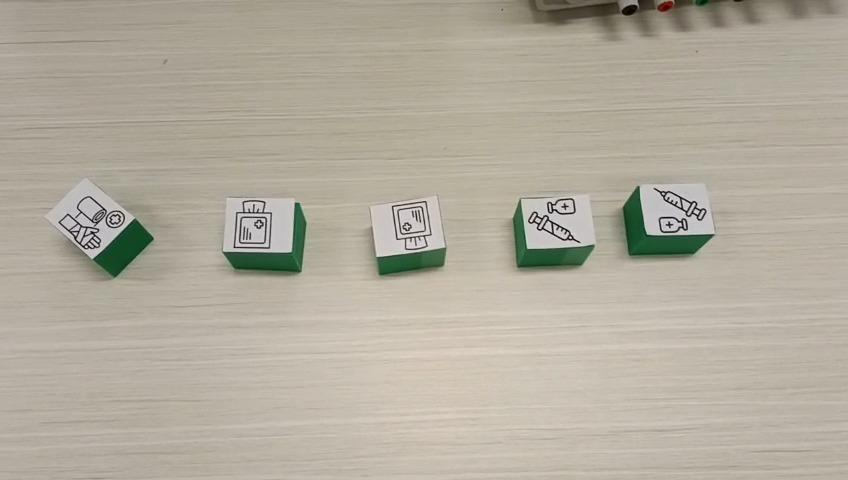Bandages: (41, 177, 153, 278)
Gauze: (222, 196, 306, 273), (368, 193, 446, 274)
antiseptic cream: (621, 181, 716, 256), (511, 193, 595, 267)
